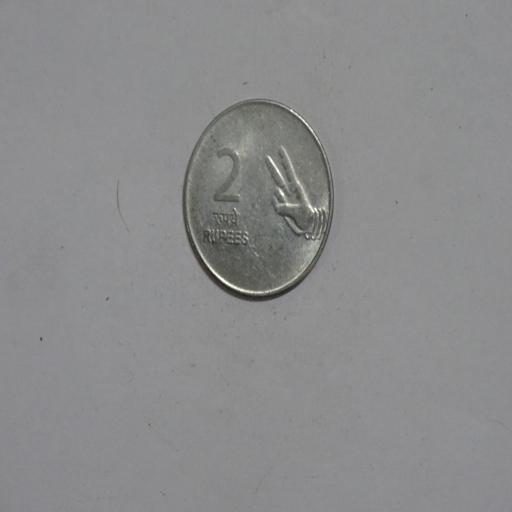rupee2: (182, 100, 333, 299)
